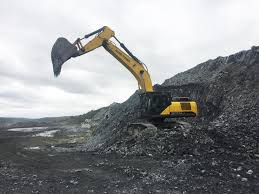excavator: (49, 24, 198, 139)
